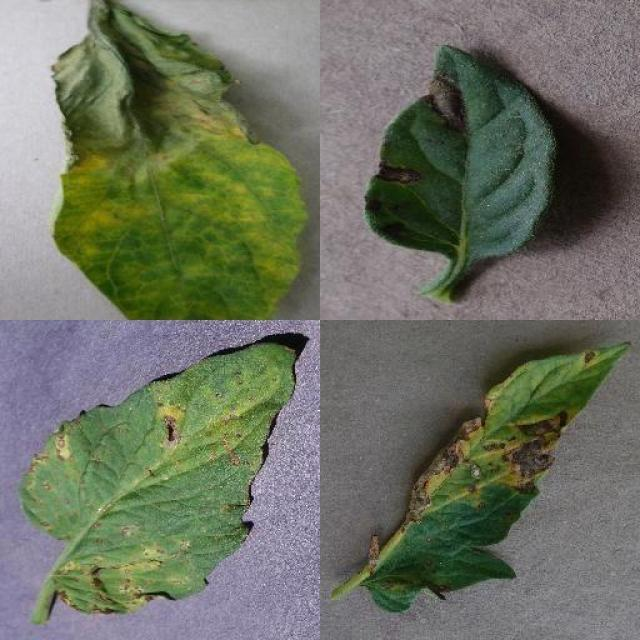Early Blight: (369, 341, 630, 619), (366, 44, 562, 260)
Late Blight: (46, 0, 308, 320)
Septoria: (22, 341, 296, 615)
